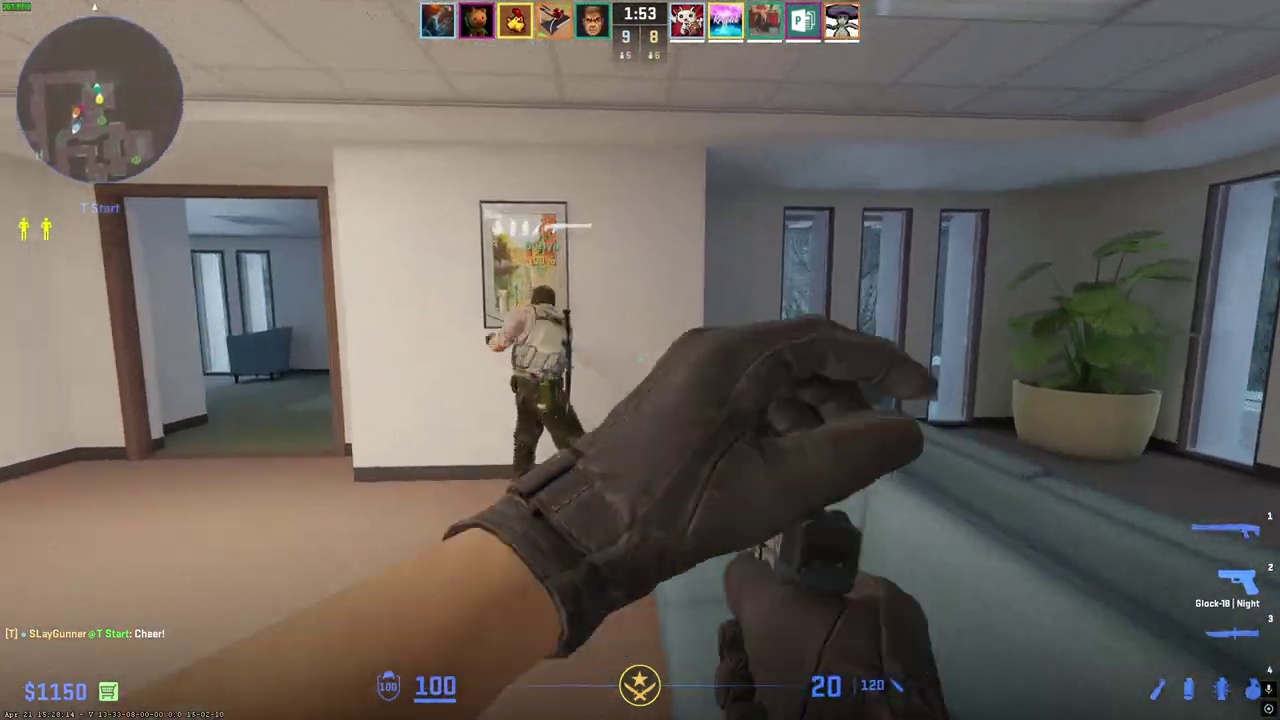Terrorist: (501, 284, 585, 475)
